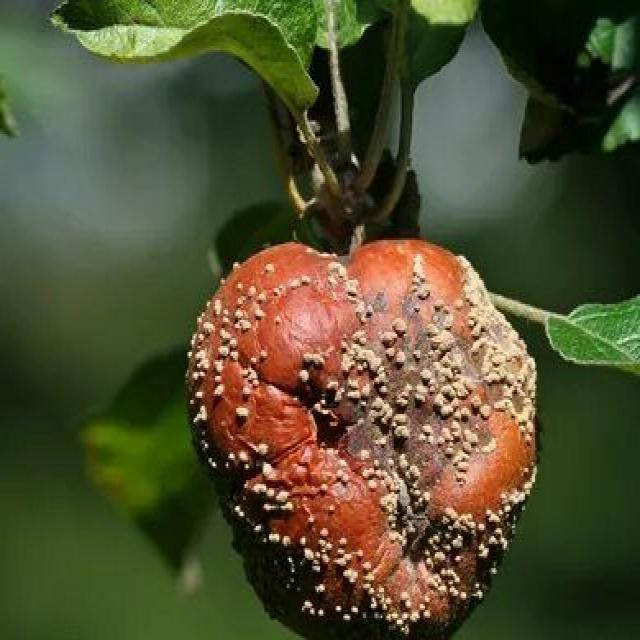Rotten: (210, 250, 538, 640)
